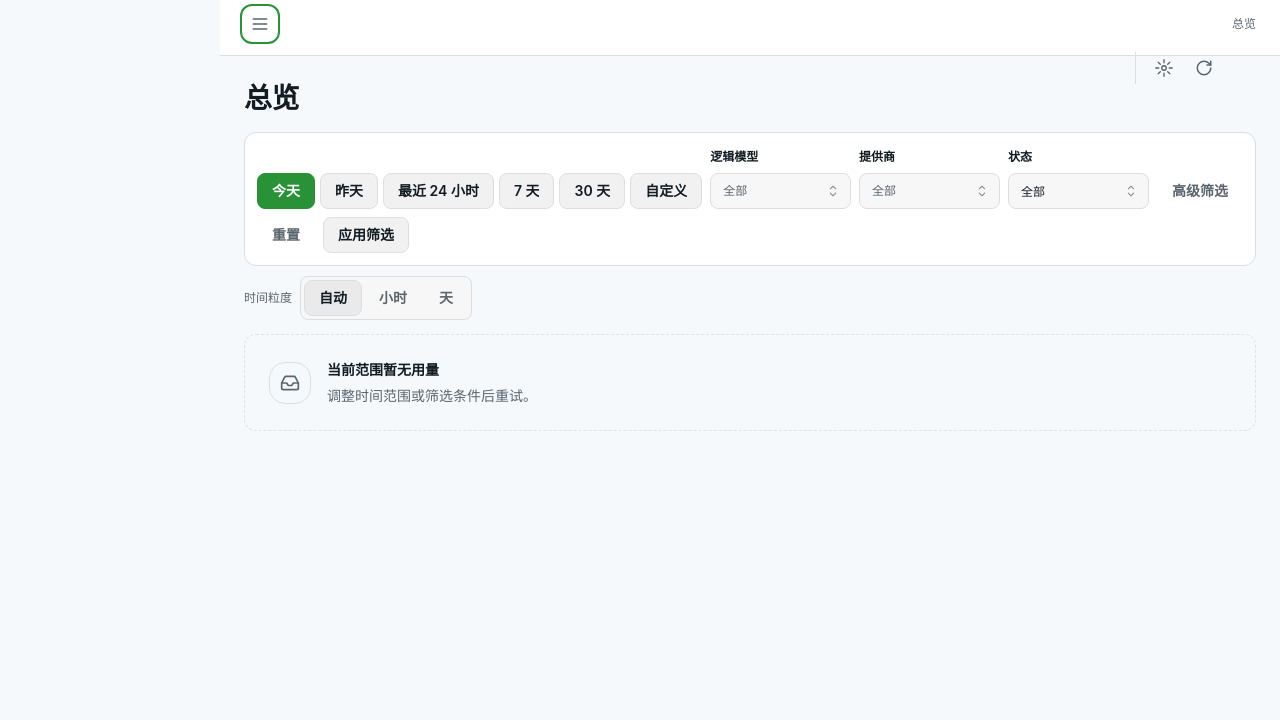
Test: GatewayUsagePage mobile navigation › removes closed navigation from the accessible tree and closes on Escape
The image size is (1280, 720).
Click the button named "打开导航" at (260, 24), box x1=244 y1=8 x2=276 y2=40
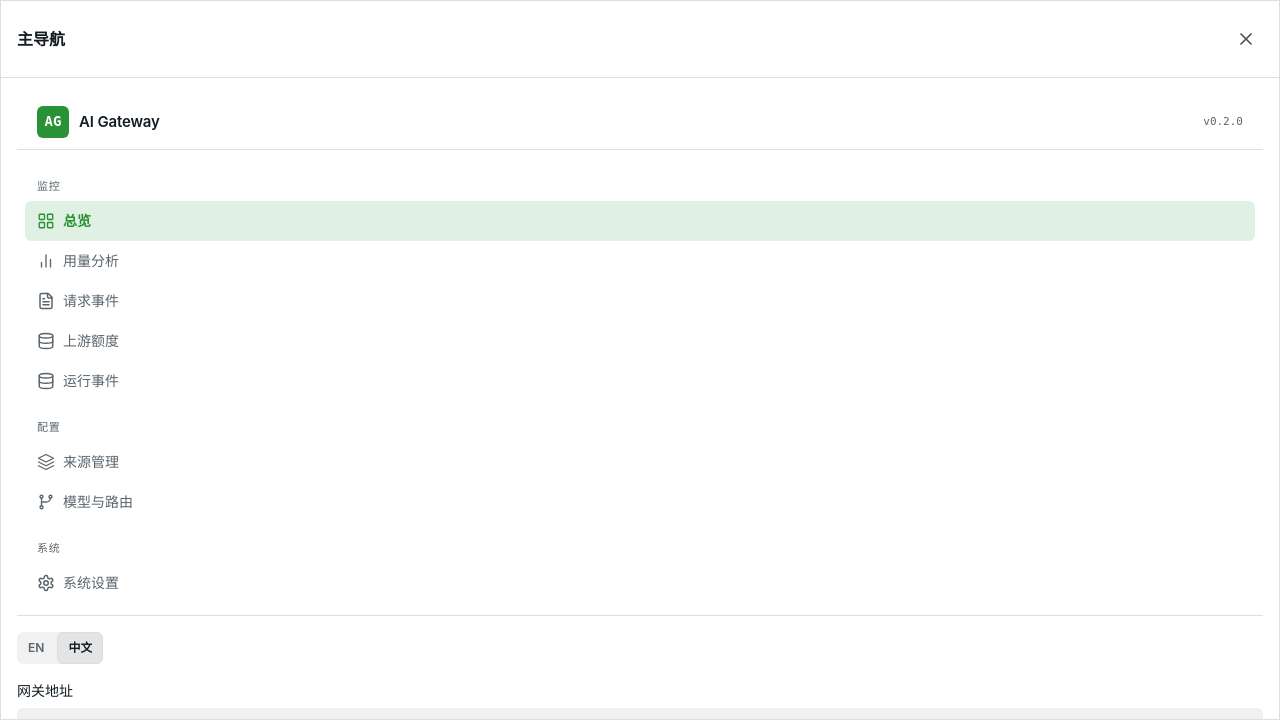
Expected: the navigation bar is shown
Press Escape in the button named "关闭", box x1=1224 y1=17 x2=1268 y2=61
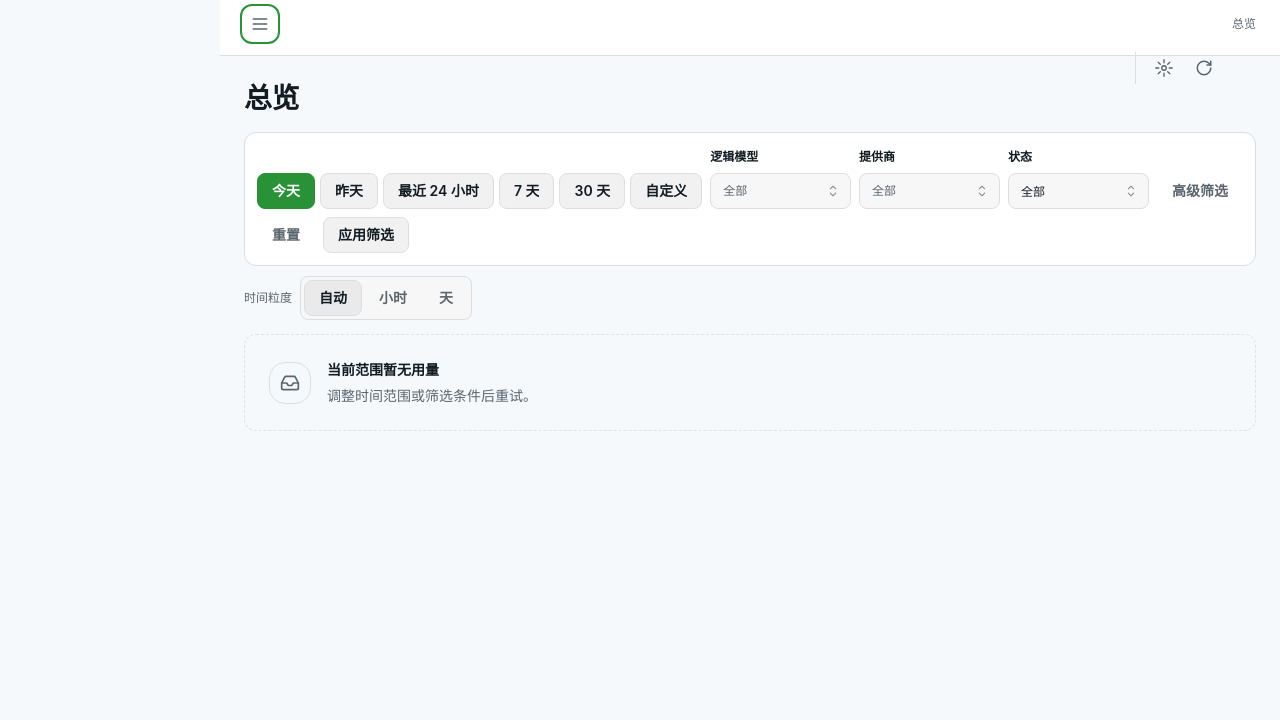
Expected: the navigation bar is gone
Expected: the button named "打开导航" is collapsed, x1=244 y1=8 x2=276 y2=40
